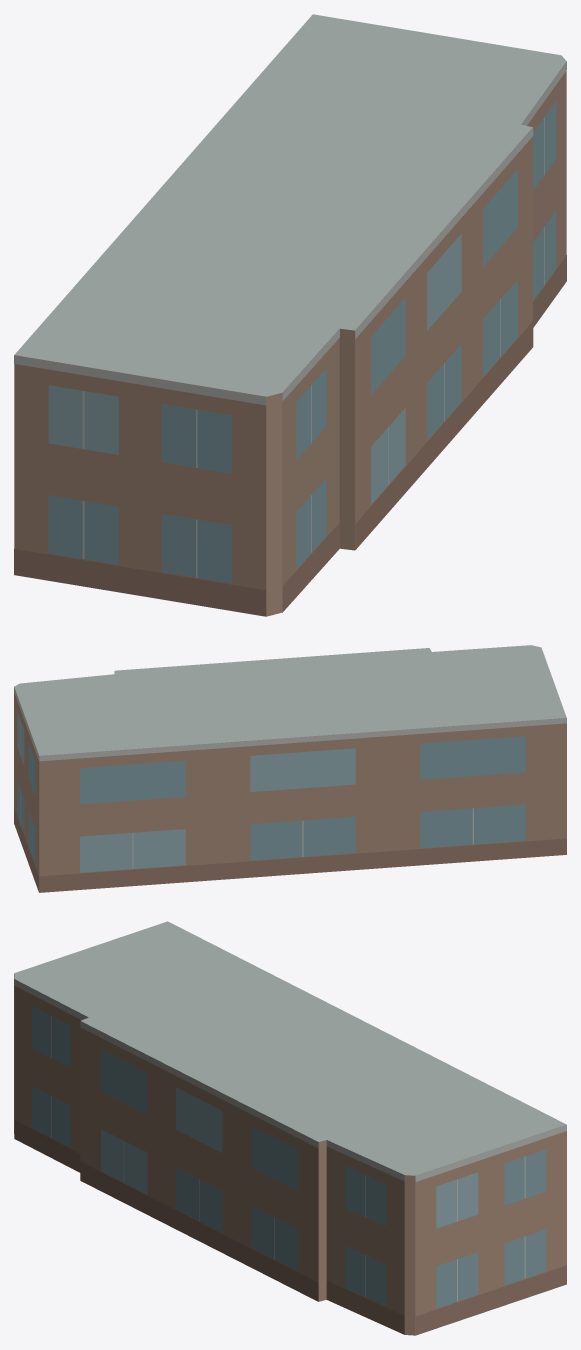
The model's file is survey-upis-32592598.glb.
The picture shows the model from 3 angles, top to bottom: view 1: azimuth 30°, elevation 25°; view 2: azimuth 150°, elevation 25°; view 3: azimuth 270°, elevation 25°; orthographic projection. The views are drawn at different scales.
Visible parts, largest first — view 1: survey-upis-32592598.tmp; view 2: survey-upis-32592598.tmp; view 3: survey-upis-32592598.tmp.
Part boxes in pixels (left/top/right/bottom): survey-upis-32592598.tmp: left=14, top=14, right=566, bottom=616; survey-upis-32592598.tmp: left=14, top=645, right=566, bottom=892; survey-upis-32592598.tmp: left=14, top=921, right=566, bottom=1335.
Size of the model in its own units: 20.84 by 6.1 by 19.13.
